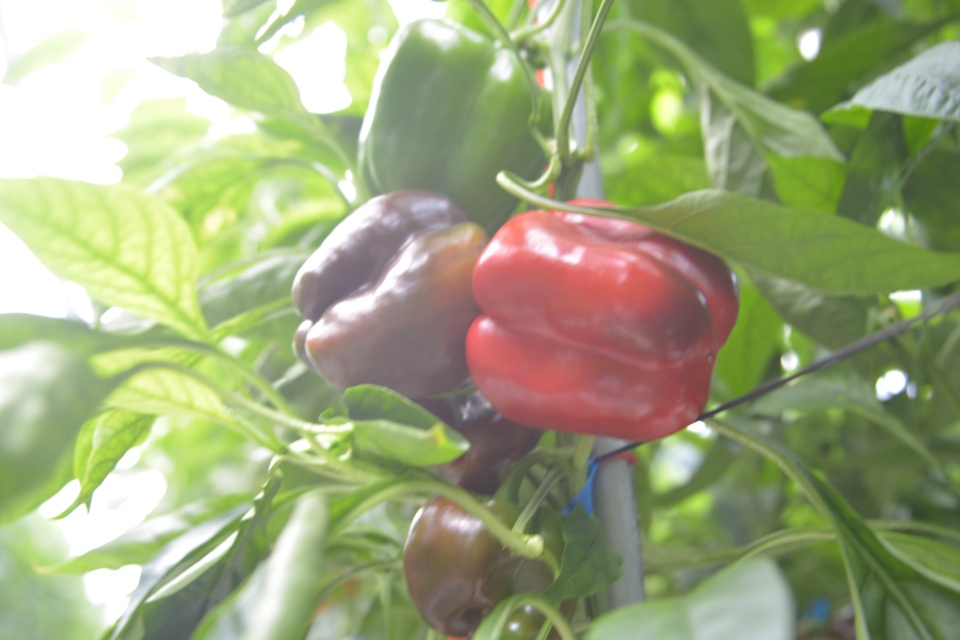fruit: (464, 196, 740, 444), (354, 14, 554, 241), (289, 189, 488, 402), (400, 487, 578, 640), (412, 388, 544, 496)
